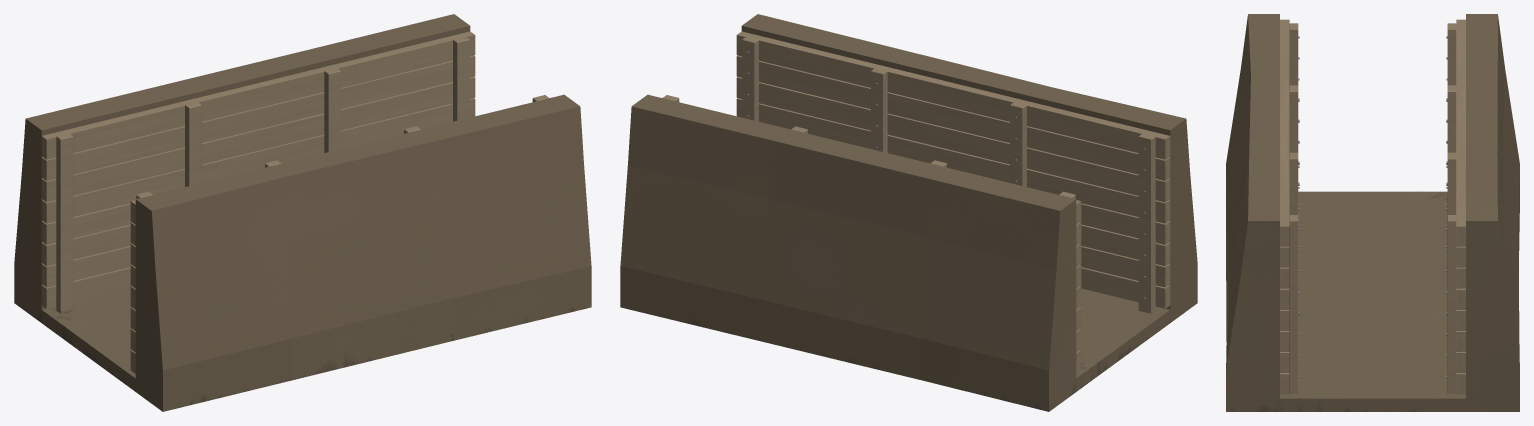
File: hills_trench_kit_straight.glb
3 renders of one model, left to right at view 1: azimuth 30°, elevation 25°; view 2: azimuth 150°, elevation 25°; view 3: azimuth 270°, elevation 25°, orthographic.
Parts seen in each view (by area): view 1: TrenchStraight; view 2: TrenchStraight; view 3: TrenchStraight.
Part boxes in pixels (x1,y1,x2,y2): TrenchStraight: (14,14,591,411); TrenchStraight: (620,14,1197,411); TrenchStraight: (1226,14,1519,411).
Size of what is drawn, in the model's own units: 4 by 1.72 by 2.4.
1 material, 1 textured.
